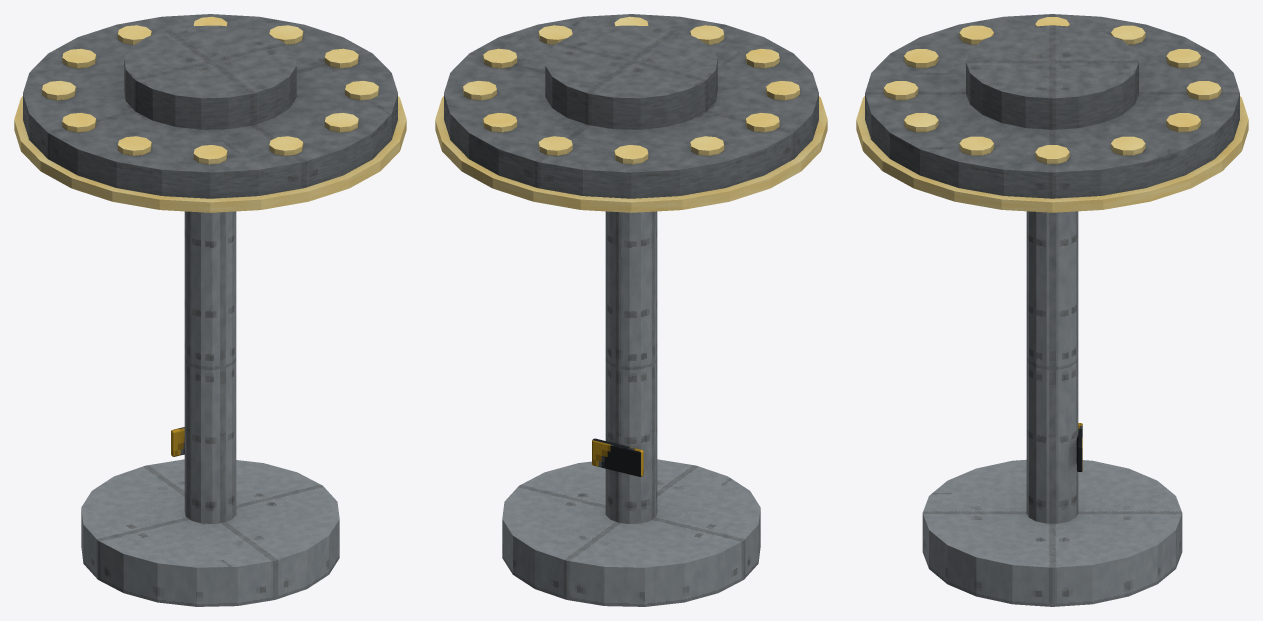
The model's file is base_sun_lamp.glb.
The picture shows the model from 3 angles, left to right: view 1: azimuth 30°, elevation 25°; view 2: azimuth 150°, elevation 25°; view 3: azimuth 270°, elevation 25°; orthographic projection.
Parts seen in each view (by area): view 1: base_sun_lamp; view 2: base_sun_lamp; view 3: base_sun_lamp.
Boxes of the visible parts, x1=… form: base_sun_lamp: x1=14, y1=14, x2=406, y2=606; base_sun_lamp: x1=435, y1=14, x2=827, y2=606; base_sun_lamp: x1=856, y1=14, x2=1248, y2=606.
Bounding box in the file's own units: 2.72 × 3.75 × 2.72.
4 materials, 4 textured.
